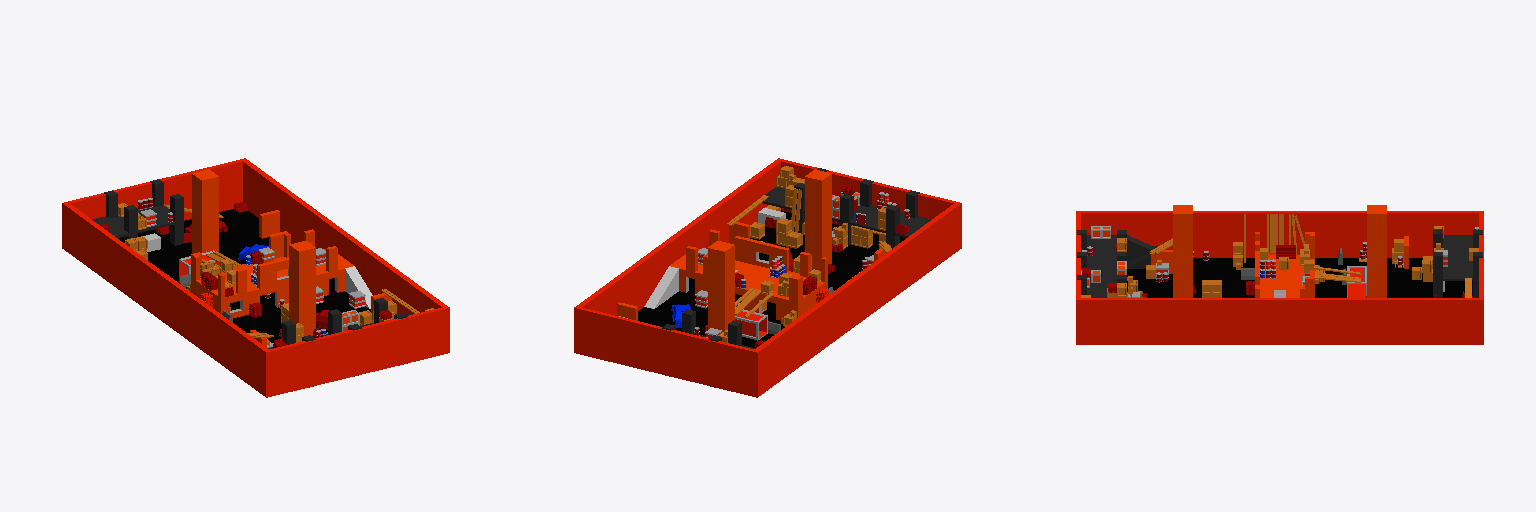
Rendered from map.obj.
The picture shows the model from 3 angles: view 1: azimuth 30°, elevation 25°; view 2: azimuth 150°, elevation 25°; view 3: azimuth 270°, elevation 25°; orthographic projection.
Parts seen in each view (by area): view 1: floors, room, Plane, Cube.016, obj.048, obj.049, Cube.004, Cube.001; view 2: floors, room, Plane, Cube.004, obj.048, obj.049, Cube.016, Cube.002, Cube.005; view 3: floors, Plane, Cube.016, Cube.004, room, obj.049, obj.048, up2.
Boxes of the visible parts, x1,y1,x2,y2 form: floors: [62, 158, 449, 397]; room: [191, 229, 353, 318]; Plane: [118, 209, 370, 342]; Cube.016: [92, 179, 183, 245]; obj.048: [289, 241, 315, 335]; obj.049: [192, 169, 218, 253]; Cube.004: [268, 298, 413, 387]; Cube.001: [345, 266, 372, 308]; floors: [574, 158, 961, 397]; room: [670, 229, 827, 320]; Plane: [638, 211, 905, 347]; Cube.004: [762, 168, 931, 248]; obj.048: [805, 169, 831, 270]; obj.049: [708, 241, 734, 332]; Cube.016: [662, 309, 754, 387]; Cube.002: [644, 266, 678, 308]; Cube.005: [735, 307, 767, 340]; floors: [1076, 211, 1483, 344]; Plane: [1127, 258, 1472, 297]; Cube.016: [1433, 230, 1482, 297]; Cube.004: [1077, 230, 1126, 297]; room: [1255, 232, 1314, 297]; obj.049: [1367, 205, 1386, 297]; obj.048: [1173, 205, 1192, 297]; up2: [1127, 235, 1157, 268].
Bounding box in the file's own units: 8.5 × 4.05 × 16.4.